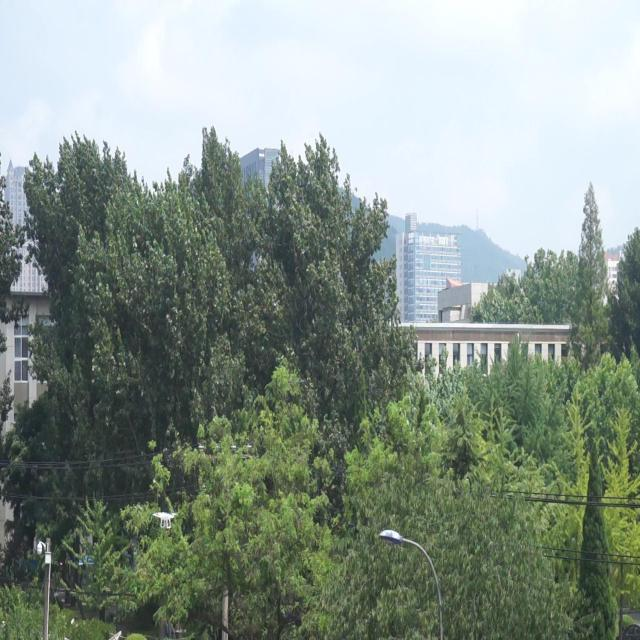drone: (150, 506, 179, 532)
